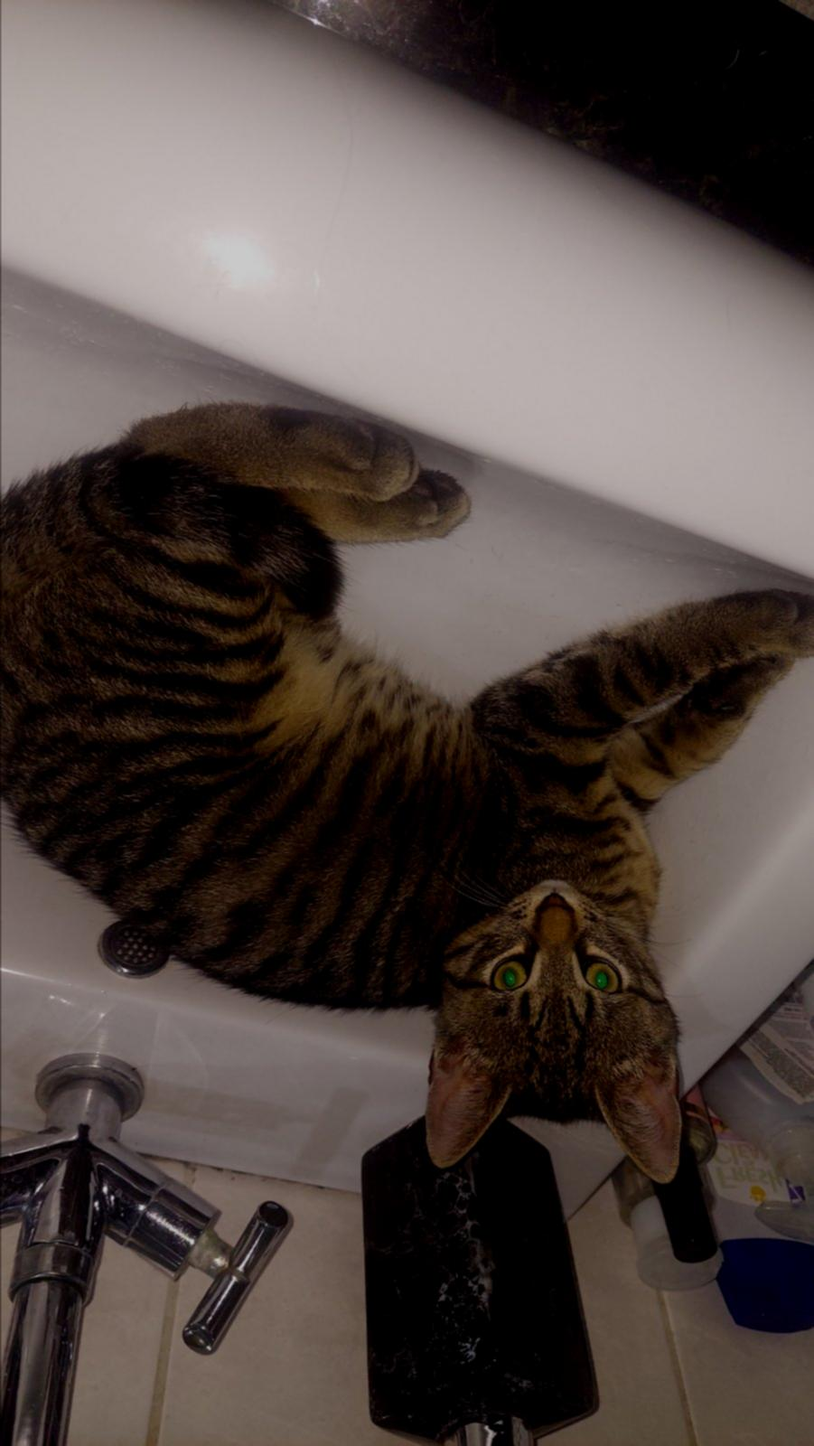macka: (0, 400, 813, 1183)
